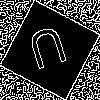U: (25, 25, 73, 79)
